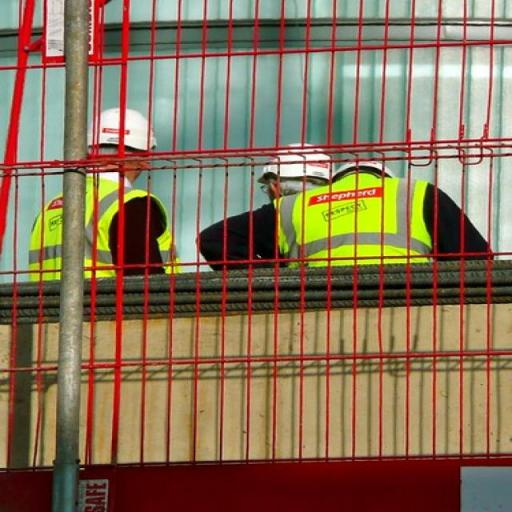helmet: (76, 102, 168, 162), (243, 148, 329, 191), (331, 151, 405, 184)
vest: (16, 173, 180, 285), (262, 173, 445, 267)
